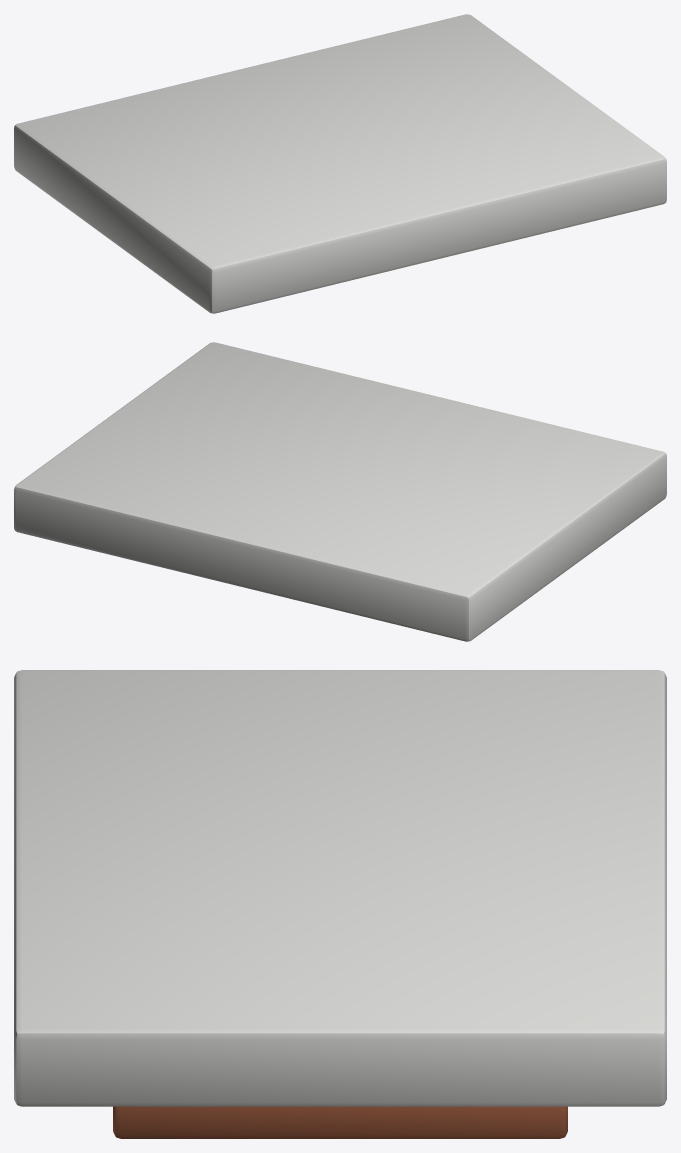
Rendered from microwave_door.glb.
3 views of the same model, one above another, from view 1: azimuth 30°, elevation 25°; view 2: azimuth 150°, elevation 25°; view 3: azimuth 270°, elevation 25° (orthographic). The views are drawn at different scales.
Visible parts, largest first — view 1: microwave_door_x; view 2: microwave_door_x; view 3: microwave_door_x.
Boxes of the visible parts, x1,y1,x2,y2 form: microwave_door_x: (14, 14, 666, 313); microwave_door_x: (14, 342, 666, 641); microwave_door_x: (14, 670, 666, 1138).
Bounding box in the file's own units: 0.323 × 0.049 × 0.244.
